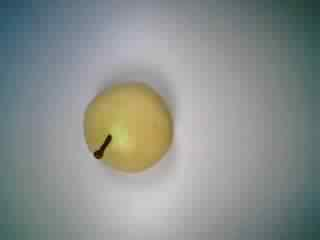pear: (77, 77, 176, 180)
